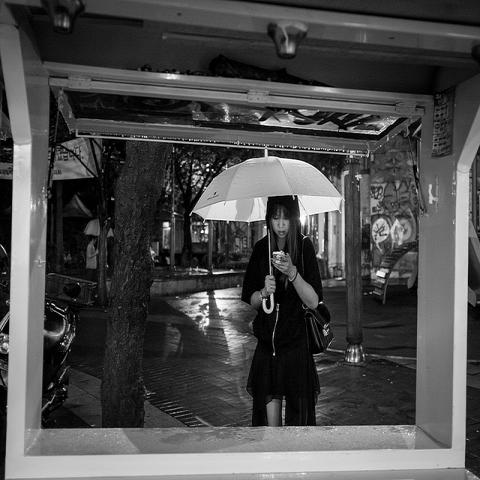motorcycle: (0, 239, 81, 426)
